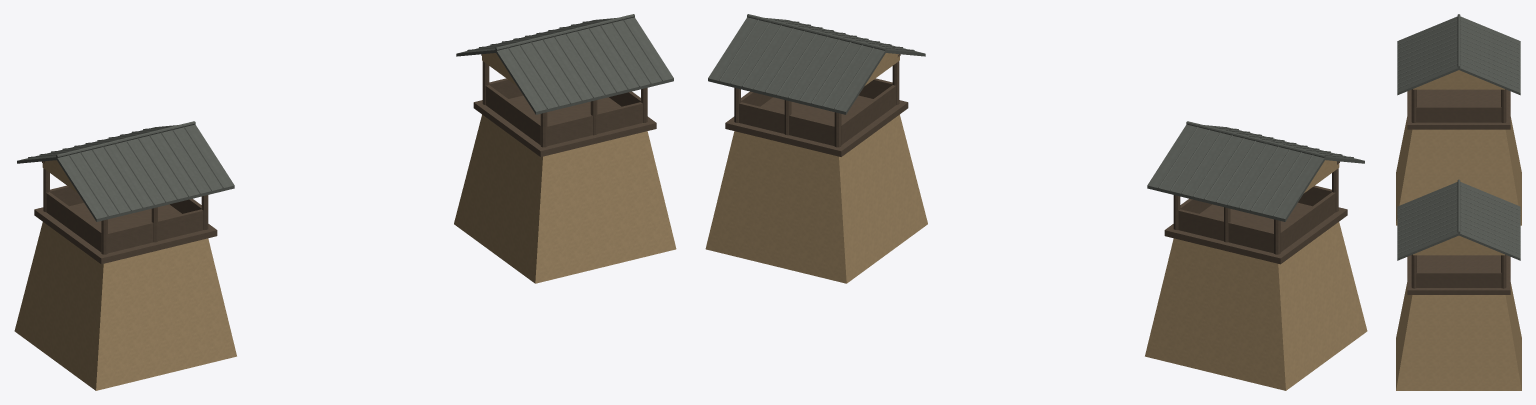
The model's file is palaceque-Q-LOD1.glb.
3 renders of one model, left to right at view 1: azimuth 30°, elevation 25°; view 2: azimuth 150°, elevation 25°; view 3: azimuth 270°, elevation 25°, orthographic. The views are drawn at different scales.
Visible parts, largest first — view 1: palaceque-Q-static_earth, palaceque-Q-static_tile, palaceque-Q-static_timber; view 2: palaceque-Q-static_earth, palaceque-Q-static_tile, palaceque-Q-static_timber; view 3: palaceque-Q-static_earth, palaceque-Q-static_tile, palaceque-Q-static_timber.
Part boxes in pixels (x1,y1,x2,y2): palaceque-Q-static_earth: (14, 53, 676, 390); palaceque-Q-static_tile: (17, 14, 673, 221); palaceque-Q-static_timber: (34, 54, 656, 264); palaceque-Q-static_earth: (705, 53, 1367, 390); palaceque-Q-static_tile: (708, 14, 1364, 221); palaceque-Q-static_timber: (725, 54, 1347, 264); palaceque-Q-static_earth: (1396, 70, 1521, 390); palaceque-Q-static_tile: (1397, 14, 1520, 260); palaceque-Q-static_timber: (1407, 89, 1510, 294).
Bounding box in the file's own units: 37 × 12.54 × 9.
Materials: 3 (3 with a texture image).
